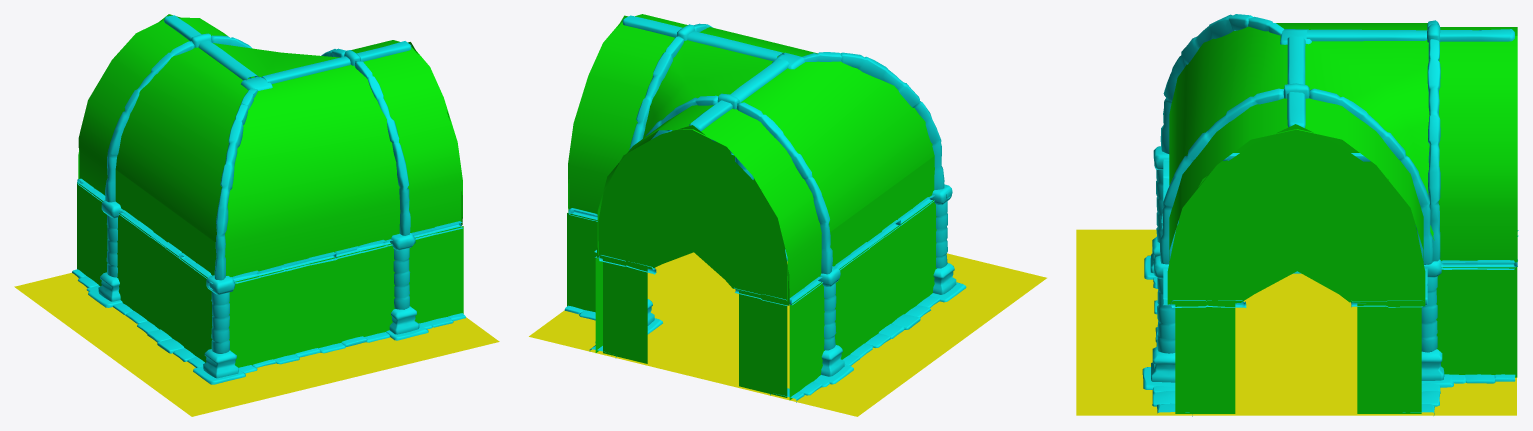
The model's file is Hallway_Corner_4.fbx.
The picture shows the model from 3 angles, left to right: view 1: azimuth 30°, elevation 25°; view 2: azimuth 150°, elevation 25°; view 3: azimuth 270°, elevation 25°; orthographic projection. The views are drawn at different scales.
Parts seen in each view (by area): view 1: Room_Corner_4:Corner3Walls, Room_Corner_4:Corner3Frame, Room_Corner_4:FloorCorner3; view 2: Room_Corner_4:Corner3Walls, Room_Corner_4:FloorCorner3, Room_Corner_4:Corner3Frame; view 3: Room_Corner_4:Corner3Walls, Room_Corner_4:FloorCorner3, Room_Corner_4:Corner3Frame.
Part boxes in pixels (bbox=[...]): Room_Corner_4:Corner3Walls: bbox=[77, 14, 463, 367]; Room_Corner_4:Corner3Frame: bbox=[72, 15, 465, 384]; Room_Corner_4:FloorCorner3: bbox=[14, 272, 499, 416]; Room_Corner_4:Corner3Walls: bbox=[567, 14, 936, 400]; Room_Corner_4:FloorCorner3: bbox=[529, 252, 1046, 416]; Room_Corner_4:Corner3Frame: bbox=[564, 15, 966, 402]; Room_Corner_4:Corner3Walls: bbox=[1167, 23, 1517, 413]; Room_Corner_4:FloorCorner3: bbox=[1076, 229, 1516, 415]; Room_Corner_4:Corner3Frame: bbox=[1142, 14, 1518, 416].
Size of the model in its own units: 1205 by 895 by 1205.
